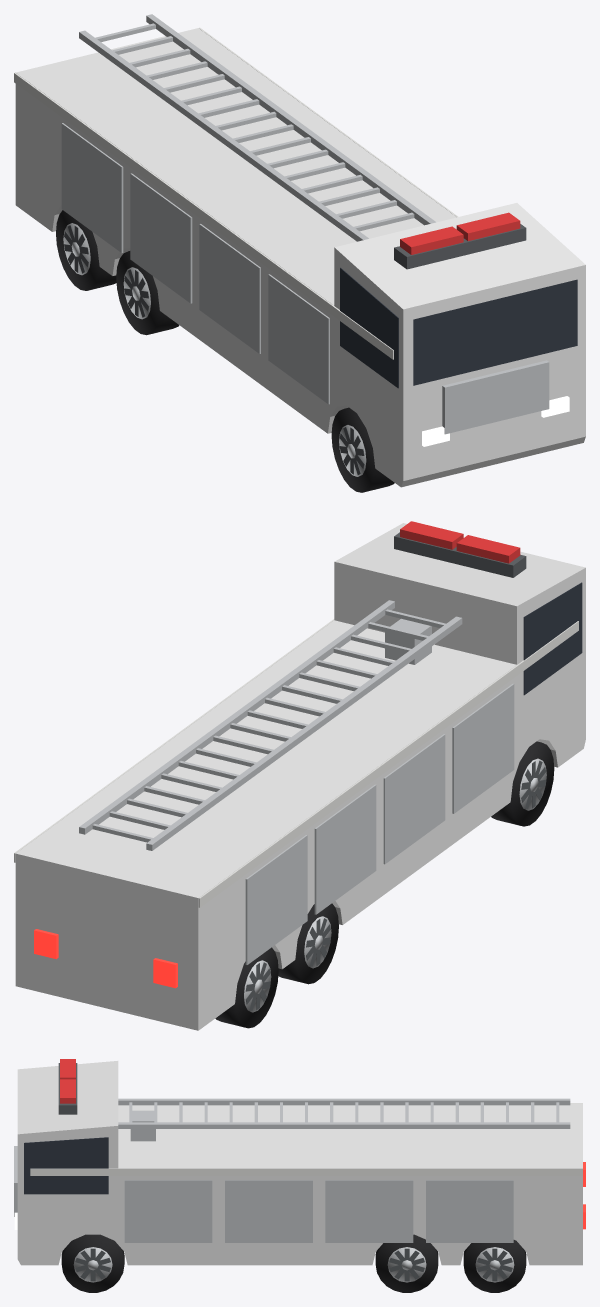
Rendered from firetruck.gltf.
3 renders of one model, top to bottom at view 1: azimuth 30°, elevation 25°; view 2: azimuth 150°, elevation 25°; view 3: azimuth 270°, elevation 25°, orthographic. The views are drawn at different scales.
Parts seen in each view (by area): view 1: firetruck, Wheel1, Wheel3, Wheel5; view 2: firetruck, Wheel1, Wheel3, Wheel5; view 3: firetruck, Wheel0, Wheel2, Wheel4.
Part boxes in pixels (bbox=[...]): firetruck: bbox=[14, 14, 585, 487]; Wheel1: bbox=[331, 407, 394, 492]; Wheel3: bbox=[116, 251, 179, 335]; Wheel5: bbox=[56, 210, 116, 290]; firetruck: bbox=[14, 521, 585, 1030]; Wheel1: bbox=[491, 741, 554, 826]; Wheel3: bbox=[278, 903, 338, 984]; Wheel5: bbox=[215, 947, 278, 1028]; firetruck: bbox=[14, 1059, 585, 1265]; Wheel0: bbox=[61, 1234, 124, 1292]; Wheel2: bbox=[375, 1234, 438, 1292]; Wheel4: bbox=[463, 1240, 526, 1292].
Bounding box in the file's own units: 0.4988 × 0.641 × 1.82.
Materials: 9 (1 with a texture image).
